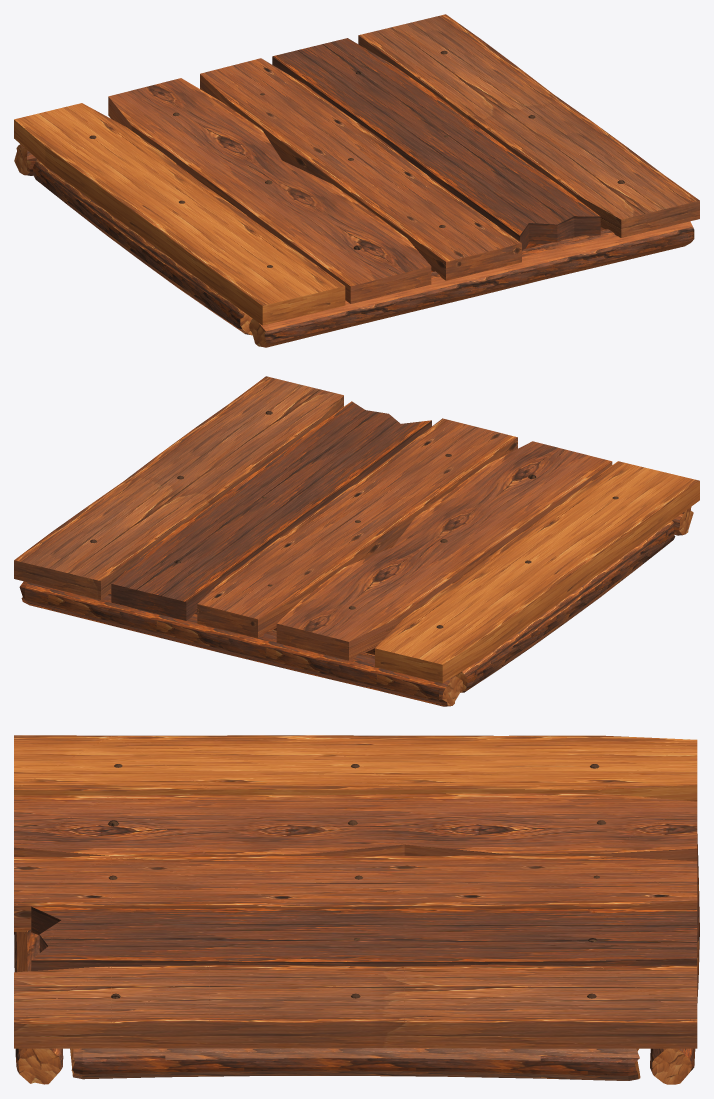
Rendered from floor__plank_root.glb.
3 views of the same model, one above another, from view 1: azimuth 30°, elevation 25°; view 2: azimuth 150°, elevation 25°; view 3: azimuth 270°, elevation 25° (orthographic). The views are drawn at different scales.
Parts seen in each view (by area): view 1: model; view 2: model; view 3: model.
Part boxes in pixels (bbox=[...]): model: bbox=[14, 14, 699, 347]; model: bbox=[14, 376, 699, 706]; model: bbox=[14, 735, 699, 1084].
Size of the model in its own units: 1.98 by 0.2356 by 2.
Materials: 19 (19 with a texture image).
